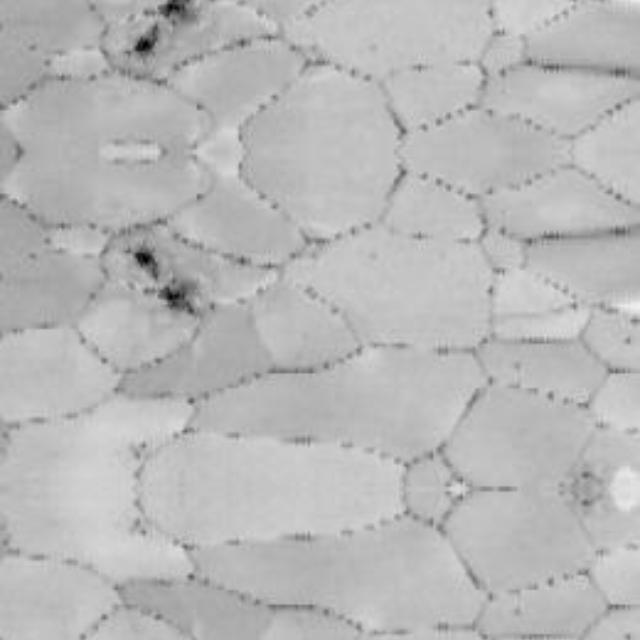good_void: (156, 276, 201, 315), (125, 241, 164, 282), (125, 20, 164, 61), (156, 0, 198, 26)
